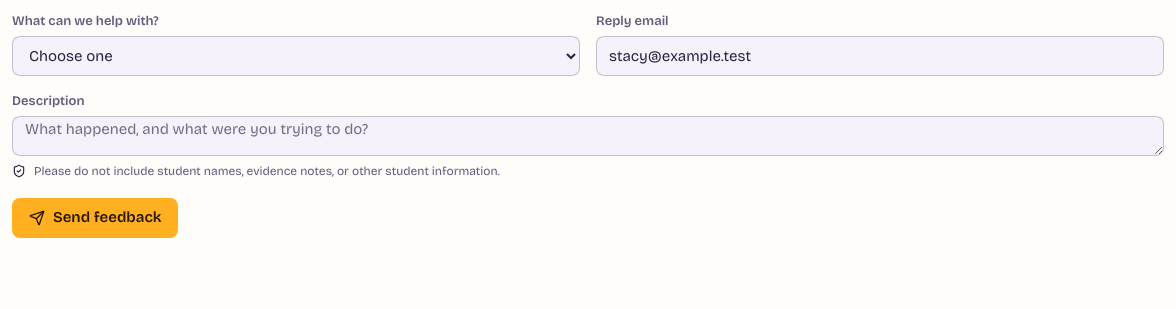
Test: HelpFeedbackForm › submits the approved fields and diagnostic context, then resets safely
Expected: the field labelled "Reply email" holds "stacy@example.test", left=596, top=36, right=1164, bottom=76
Expected: the text "do not include student names" is shown, left=34, top=164, right=500, bottom=178
Select "Something was confusing" in the dropdown labelled "What can we help with?" at (296, 56), box left=12, top=36, right=580, bottom=76
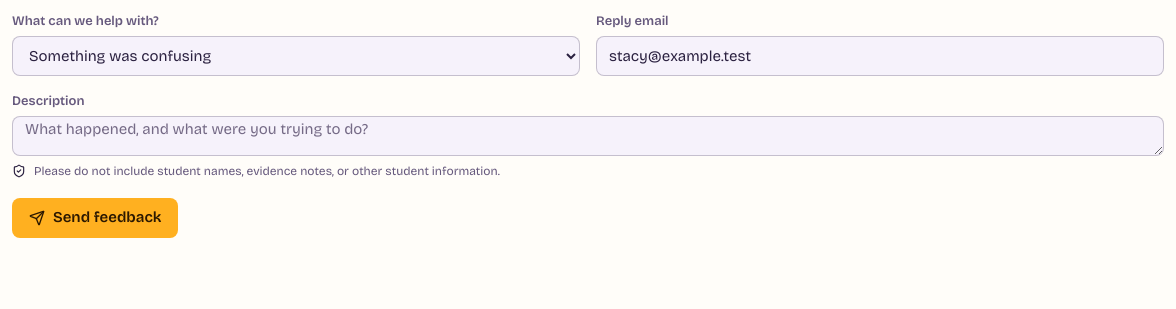
Type "I could not tell which action saved my change." into the text box labelled "Description" at (588, 136), box left=12, top=116, right=1164, bottom=156
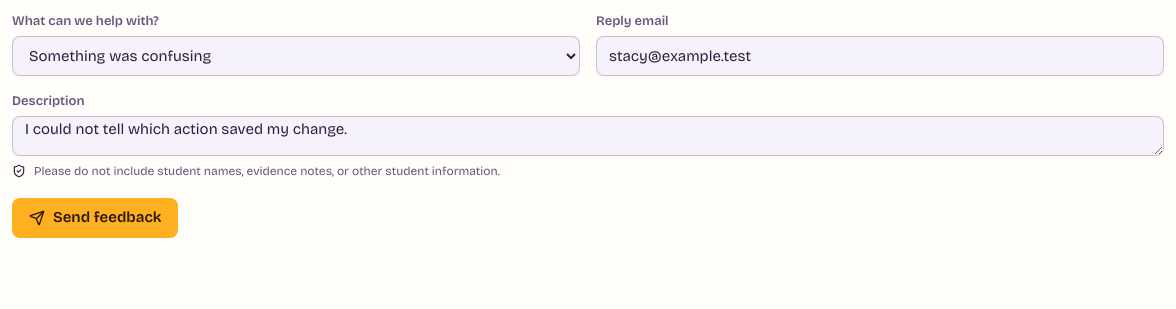
Submit the form labelled "What can we help with?"
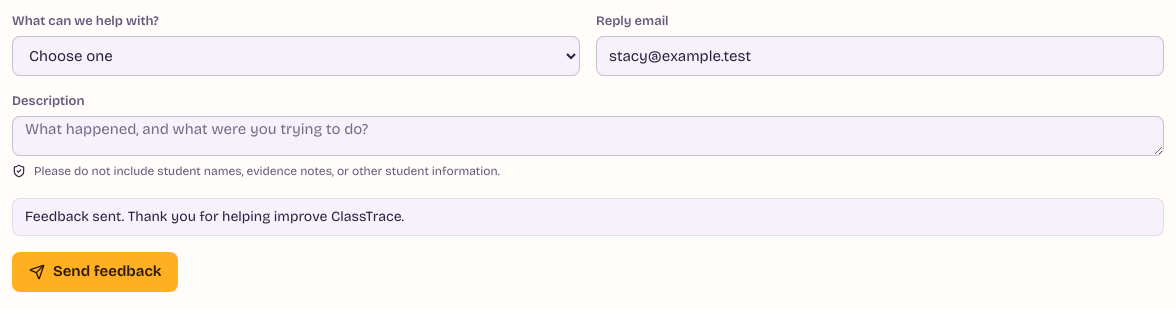
Expected: the field labelled "Reply email" holds "stacy@example.test", left=596, top=36, right=1164, bottom=76
Expected: the text "Feedback sent. Thank you for helping improve ClassTrace." is shown, left=12, top=198, right=1164, bottom=236
Expected: the text box labelled "Description" is empty, left=12, top=116, right=1164, bottom=156
